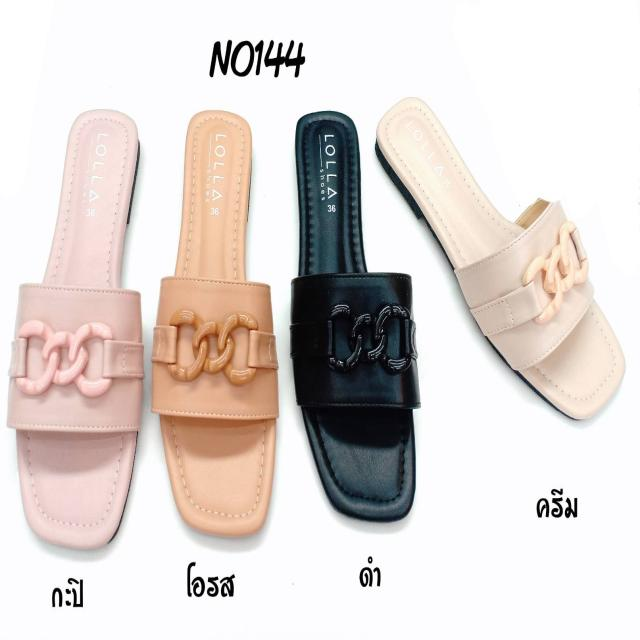black: (285, 109, 416, 516)
cream: (378, 101, 622, 423)
kapi: (17, 108, 145, 550)
orot: (160, 112, 276, 530)
